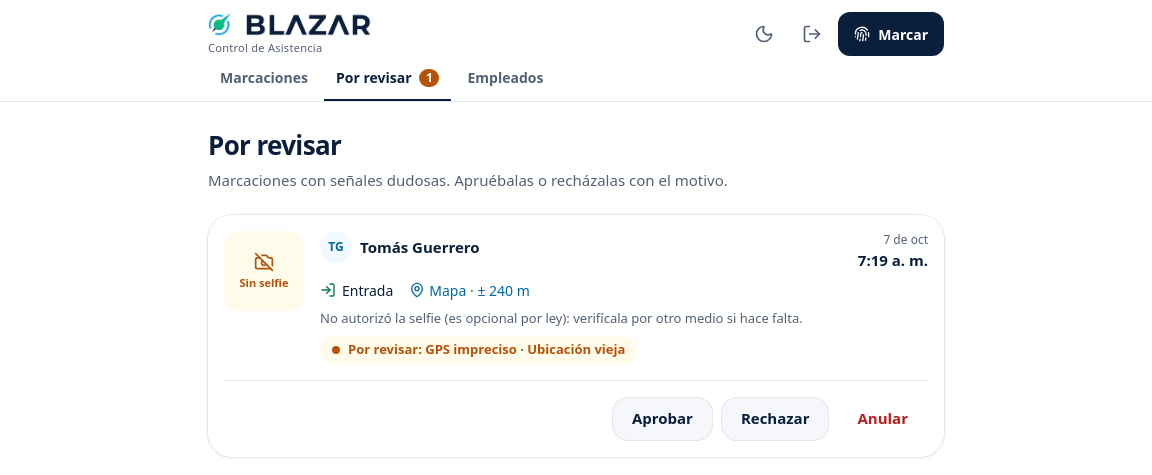
Por revisar (Fase 6) › al aprobar la última, queda «Todo al día»
What coordinates should you click on to do the following:
click the button "Aprobar"
I would click on:
 (662, 418)
Its box is [612,396,713,440].
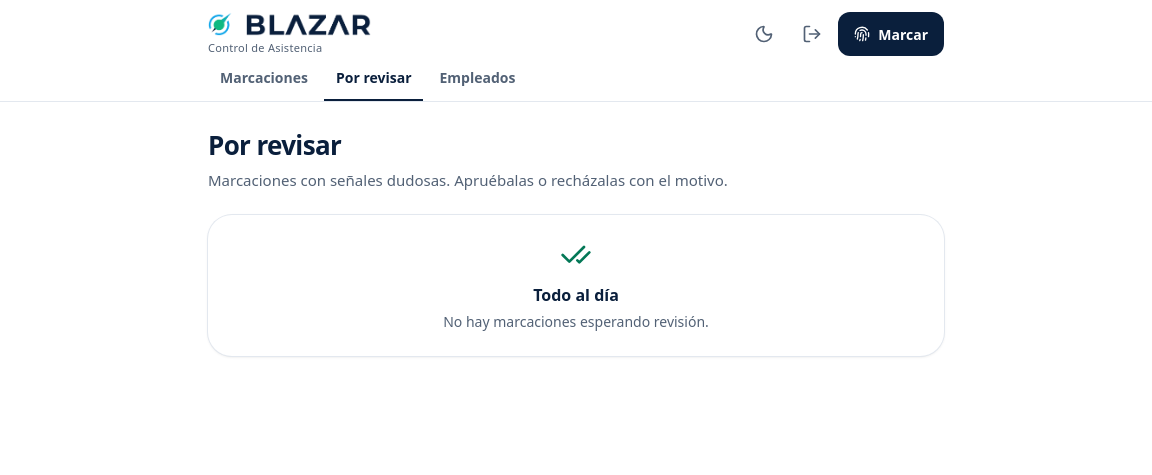
Check: the text "Todo al día" is shown, box [533,283,619,307]
